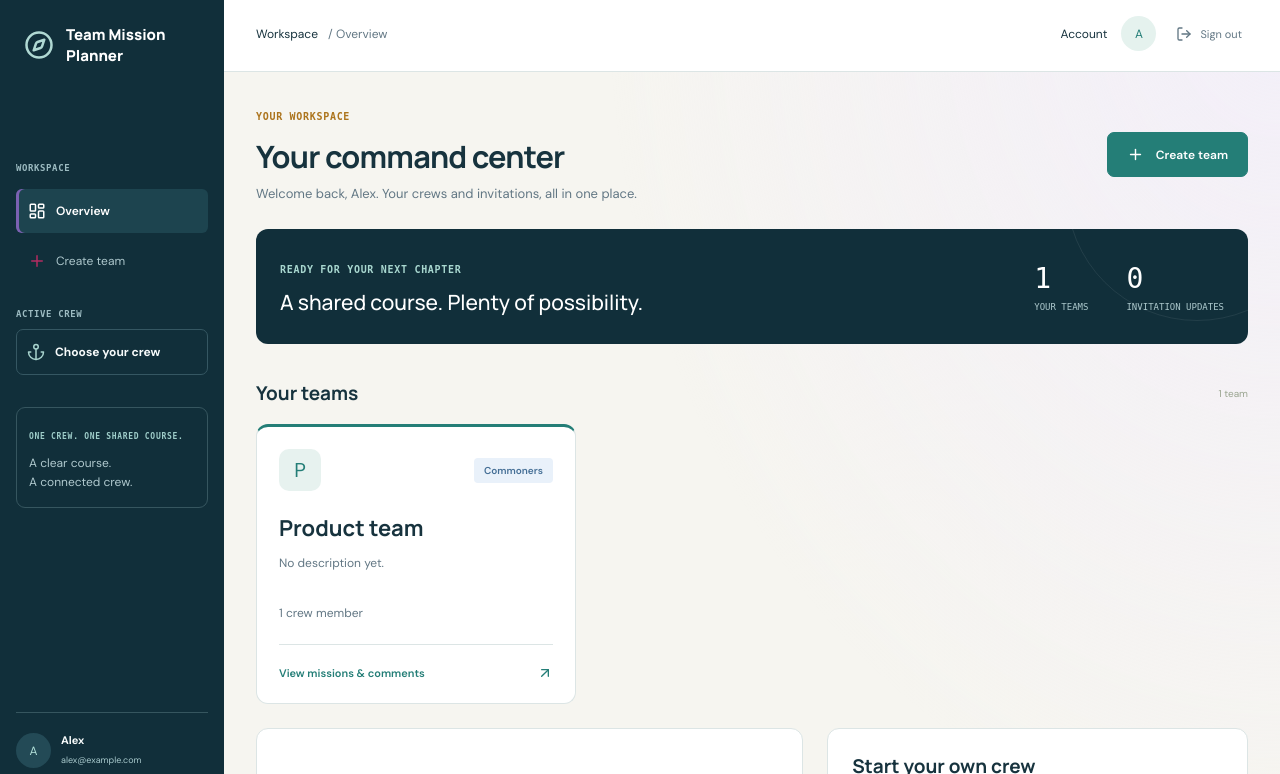
it: Task workflows › opens a saved mission from the dashboard and lets a Commoner post a comment
The image size is (1280, 774).
Click the link named "View missions & comments" at x=300, y=470, box [256,424,576,704]
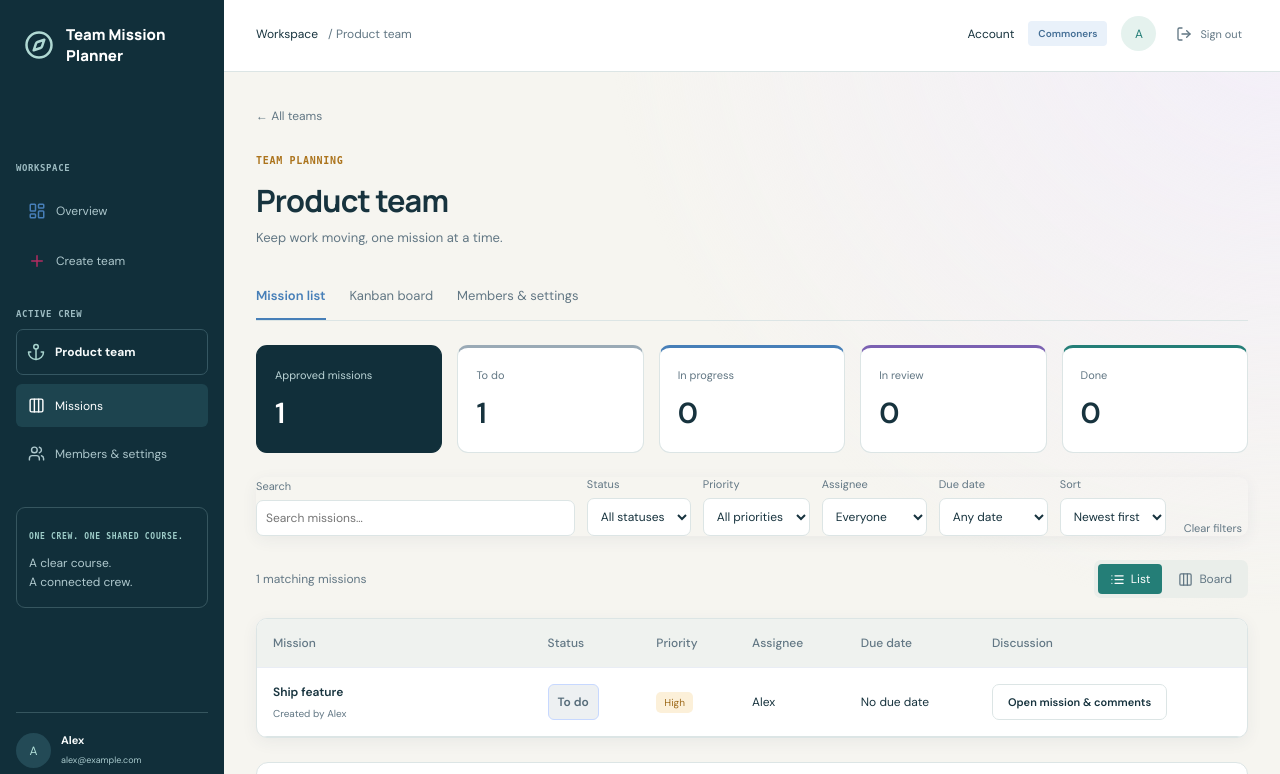
Click the link "Open mission & comments" at x=1080, y=702, box [992,684,1167,720]
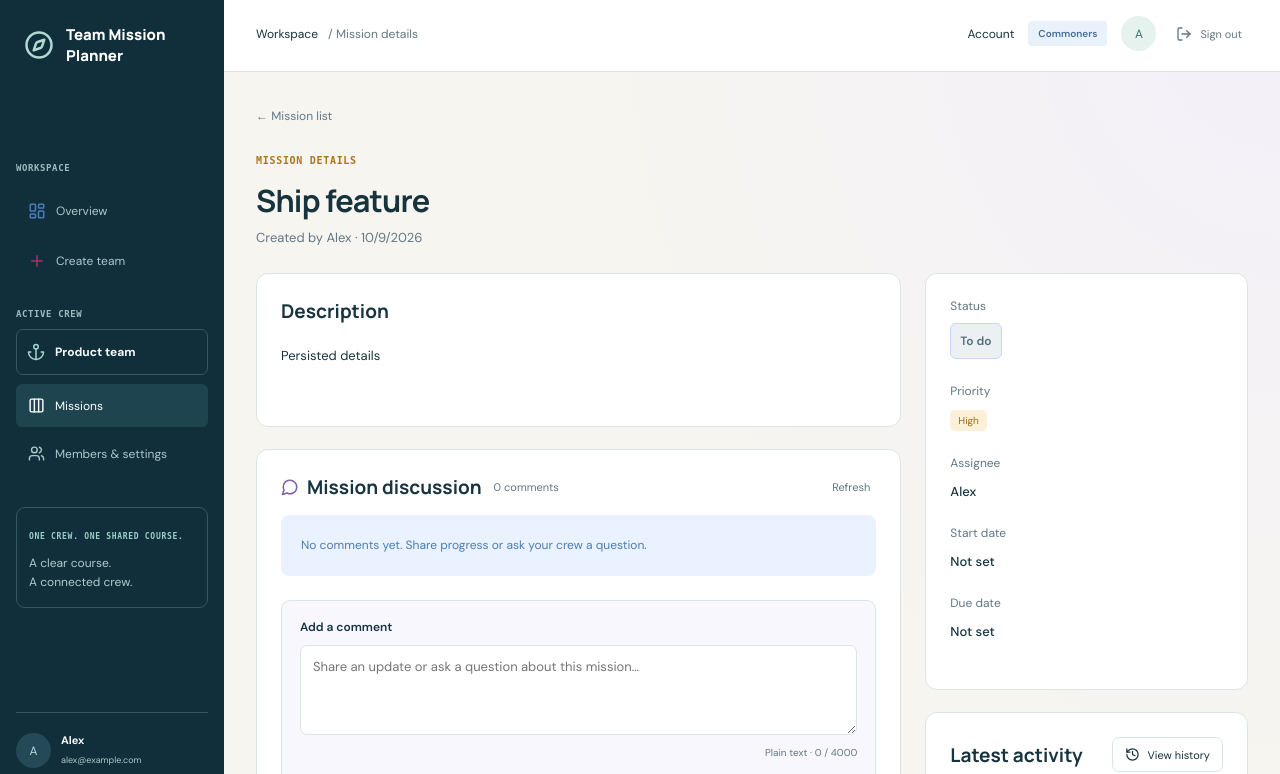
Type "Ready to help with this mission" into the text box labelled "Add a comment" at x=579, y=690, box [300,645,857,735]
(page scrolled)
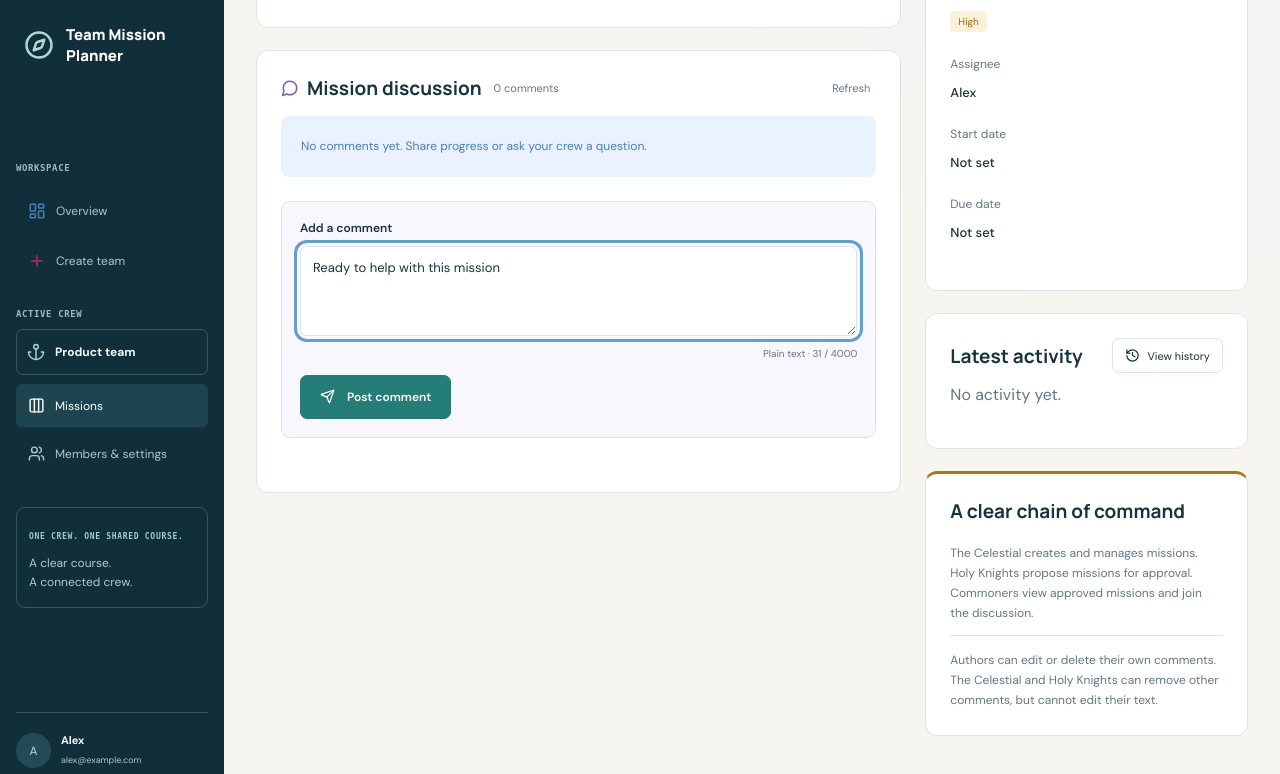
Click the button "Post comment" at x=376, y=397, box [300,375,451,419]
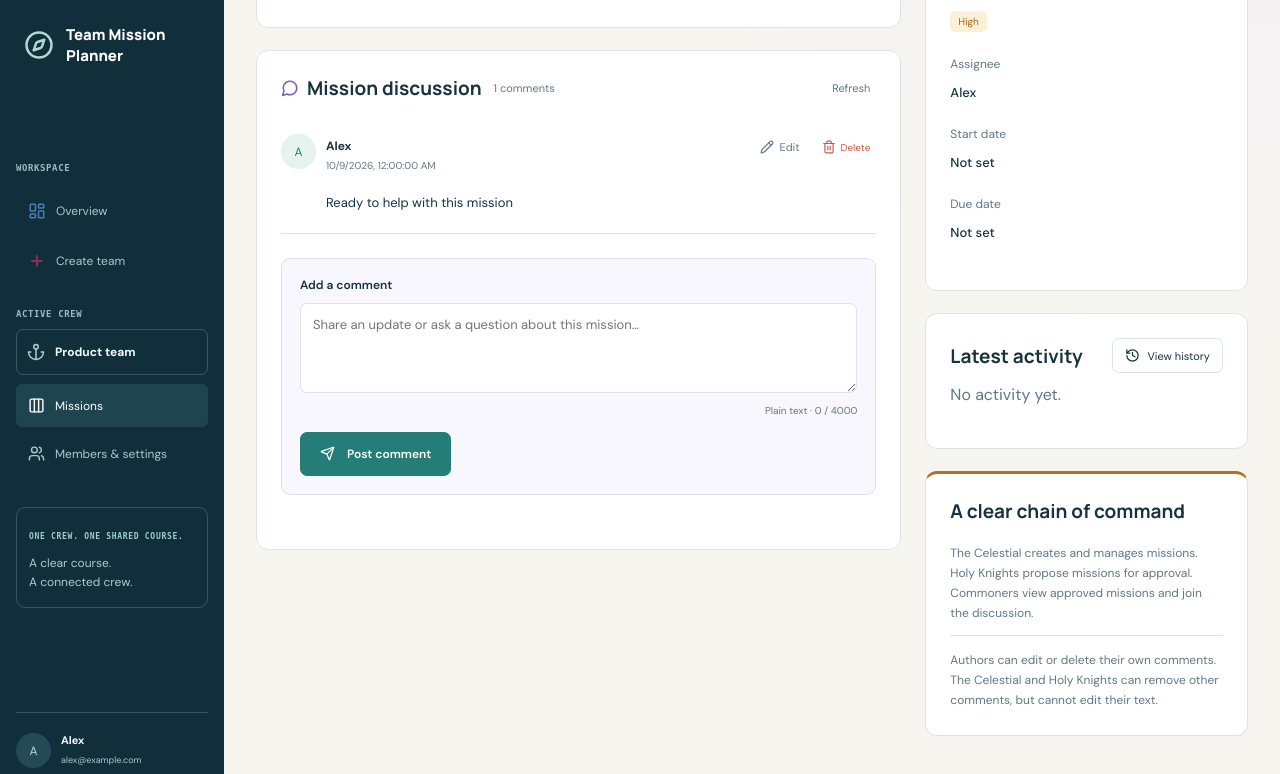
Expected: the text "Ready to help with this mission" is shown, [326,194,513,212]
